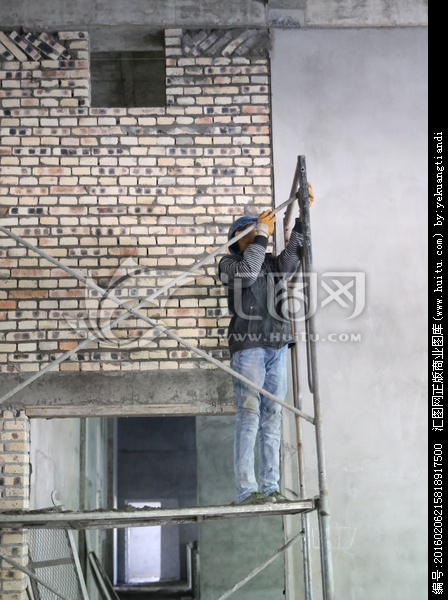blue: (222, 215, 263, 253)
